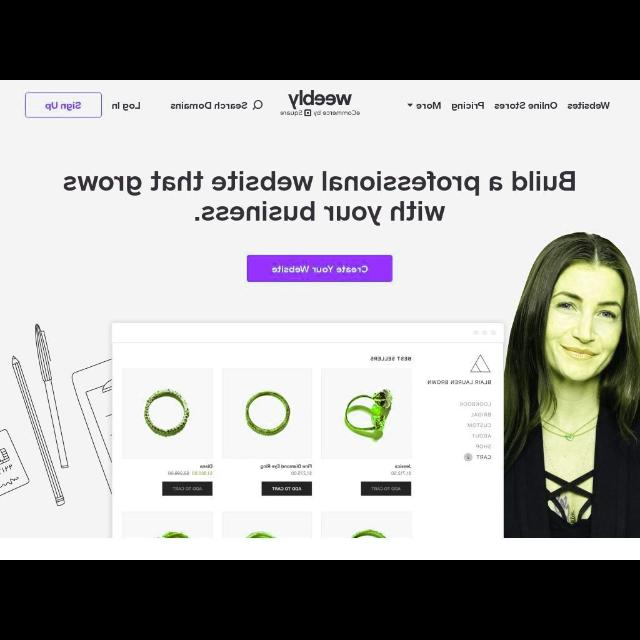backgroundimage: (4, 230, 638, 536)
icon: (251, 98, 263, 114), (408, 103, 412, 109)
image: (278, 90, 360, 118)
multitab: (406, 101, 610, 113)
spinner: (406, 100, 442, 110)
text: (61, 170, 577, 222), (271, 263, 369, 273), (170, 100, 246, 112), (494, 100, 558, 110), (46, 100, 84, 112), (450, 100, 486, 110), (567, 102, 611, 110), (109, 102, 143, 110), (417, 102, 443, 110)
textbutton: (246, 255, 392, 281), (23, 94, 102, 116)
